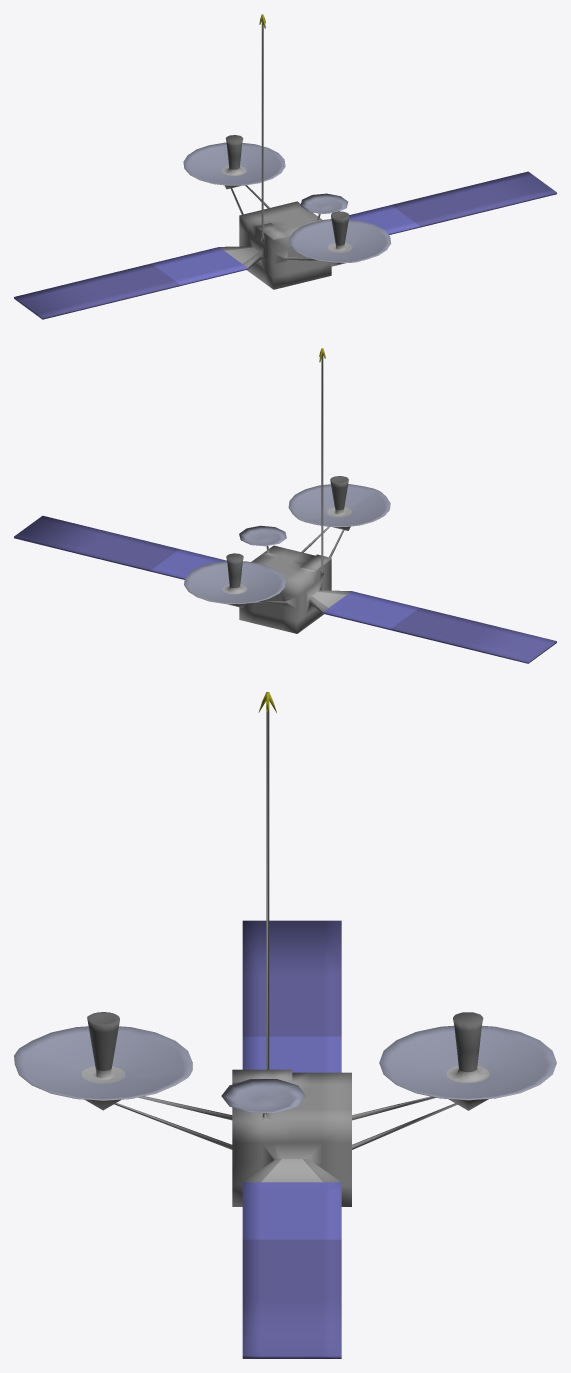
Rendered from TDRS1.fbx.
The picture shows the model from 3 angles, top to bottom: view 1: azimuth 30°, elevation 25°; view 2: azimuth 150°, elevation 25°; view 3: azimuth 270°, elevation 25°; orthographic projection. The views are drawn at different scales.
Parts seen in each view (by area): view 1: polySurface5; view 2: polySurface5; view 3: polySurface5.
Boxes of the visible parts, x1,y1,x2,y2 form: polySurface5: (14,14,556,319); polySurface5: (14,348,556,663); polySurface5: (14,692,556,1358).
Size of the model in its own units: 0.8866 by 0.4489 by 0.4676.
